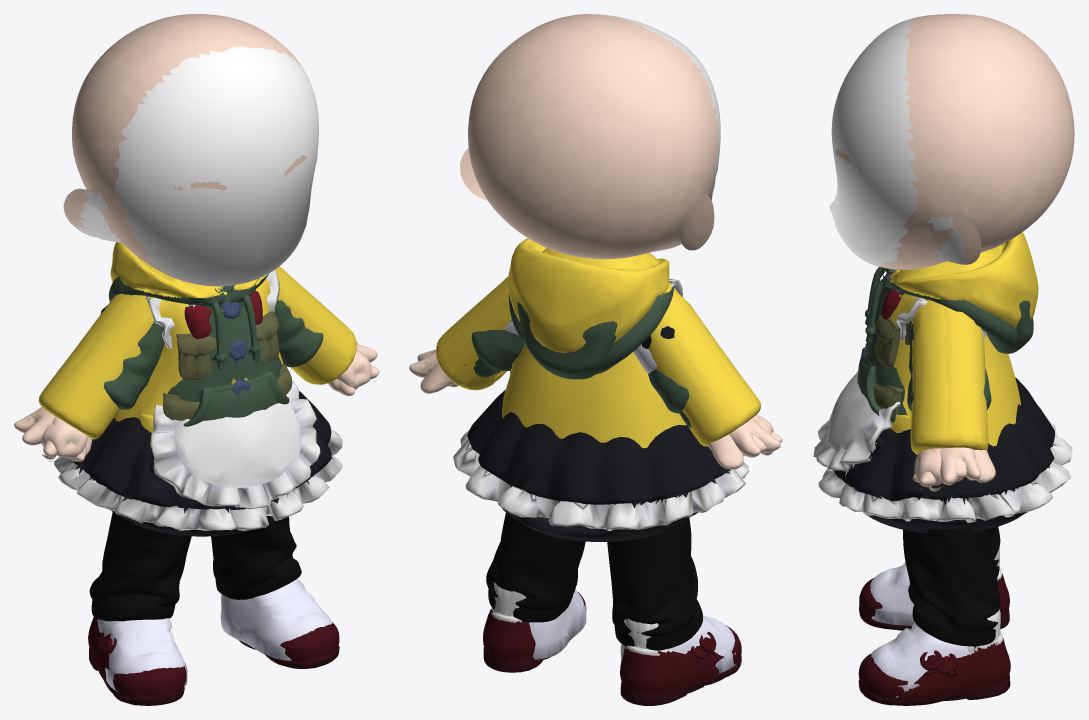
File: body.glb
3 renders of one model, left to right at view 1: azimuth 30°, elevation 25°; view 2: azimuth 150°, elevation 25°; view 3: azimuth 270°, elevation 25°, orthographic. The views are drawn at different scales.
Visible parts, largest first — view 1: kid3; view 2: kid3; view 3: kid3.
Boxes of the visible parts, bbox=[...] form: kid3: bbox=[14, 14, 379, 705]; kid3: bbox=[409, 14, 782, 705]; kid3: bbox=[813, 14, 1074, 705].
Size of the model in its own units: 1.14 by 1.93 by 0.7292.
